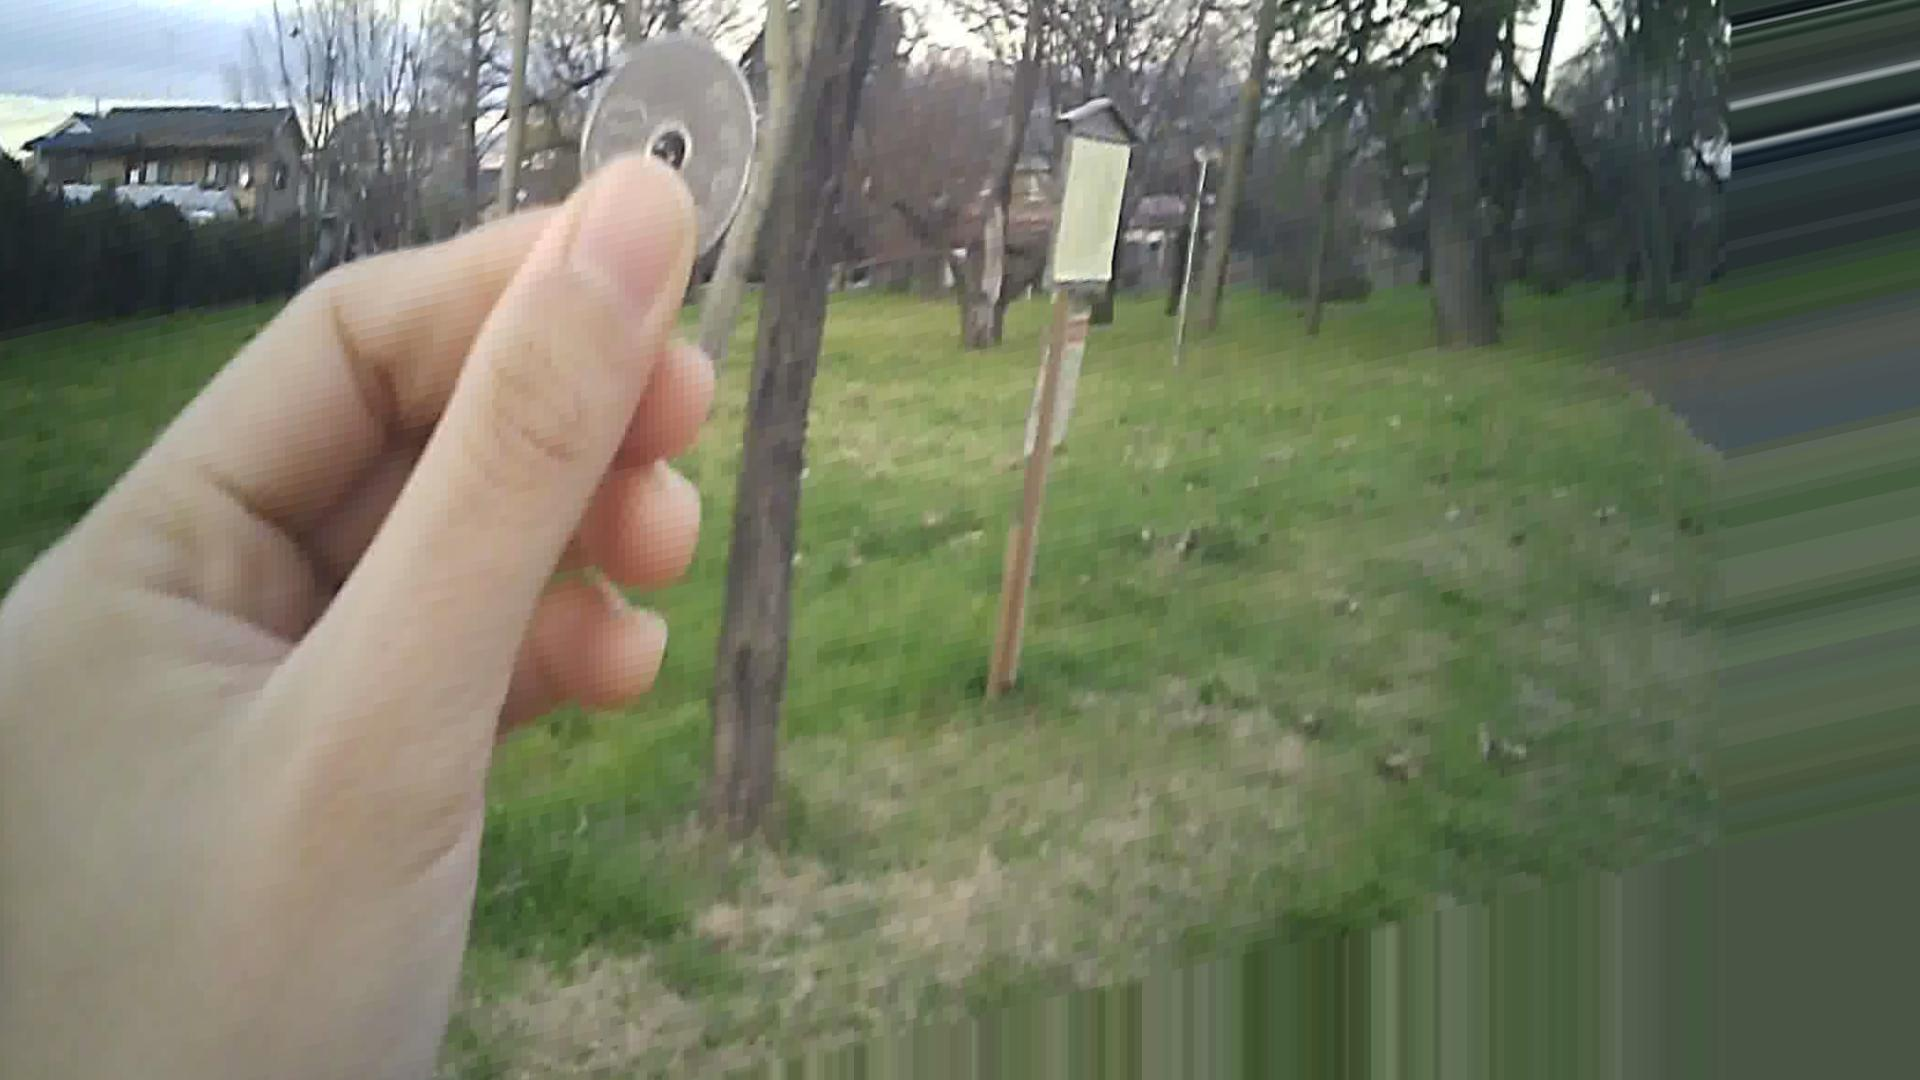50 Yen: (559, 24, 760, 268)
